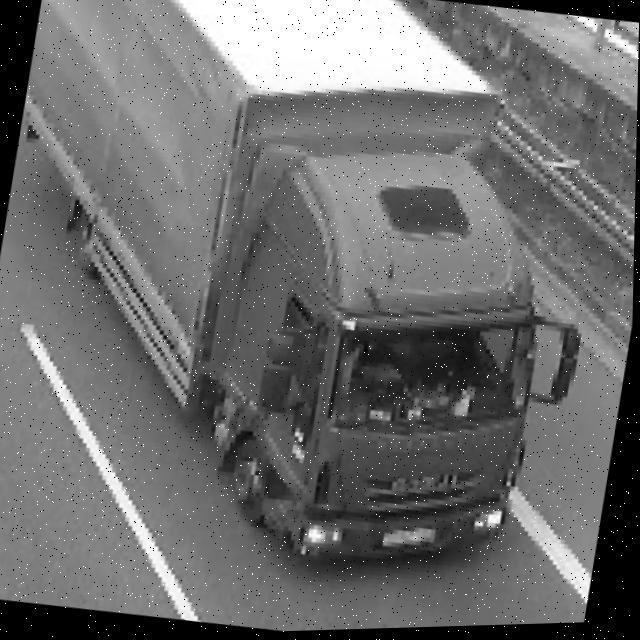truck: (149, 92, 611, 603)
